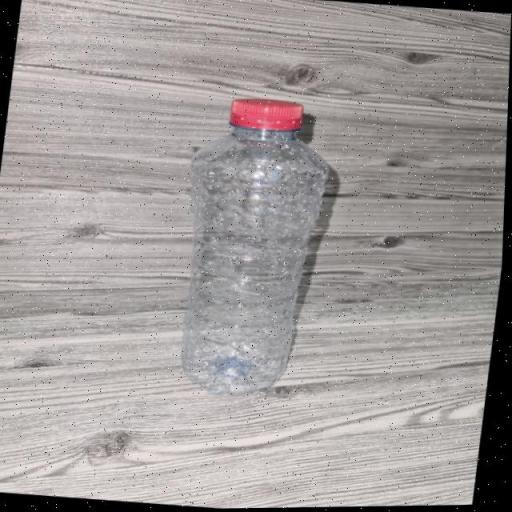plastic: (151, 84, 359, 418)
